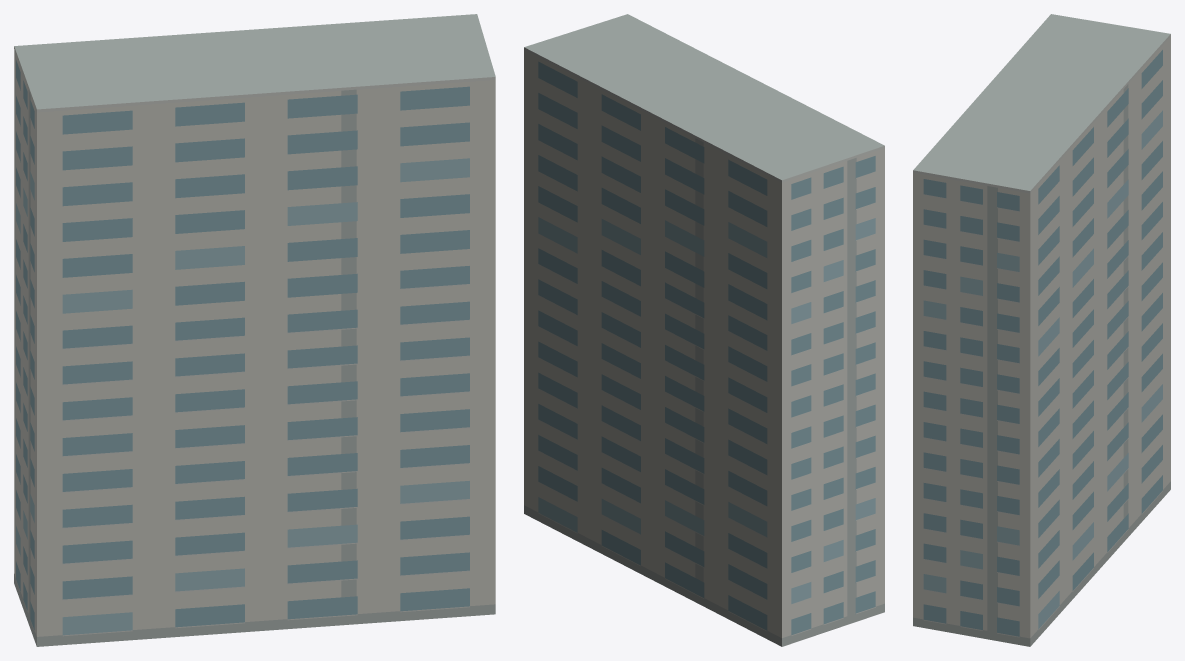
Rendered from residential-d1376436-de6e-496b-a170-be321034c68e.glb.
The picture shows the model from 3 angles, left to right: view 1: azimuth 30°, elevation 25°; view 2: azimuth 150°, elevation 25°; view 3: azimuth 270°, elevation 25°; orthographic projection. The views are drawn at different scales.
Visible parts, largest first — view 1: residential-d1376436-de6e-496b-a170-be321034c68e.tmp; view 2: residential-d1376436-de6e-496b-a170-be321034c68e.tmp; view 3: residential-d1376436-de6e-496b-a170-be321034c68e.tmp.
Part boxes in pixels (bbox=[...]): residential-d1376436-de6e-496b-a170-be321034c68e.tmp: bbox=[14, 14, 495, 646]; residential-d1376436-de6e-496b-a170-be321034c68e.tmp: bbox=[524, 14, 884, 646]; residential-d1376436-de6e-496b-a170-be321034c68e.tmp: bbox=[913, 14, 1170, 646].
Bounding box in the file's own units: 38.14 × 45.75 × 23.46.
